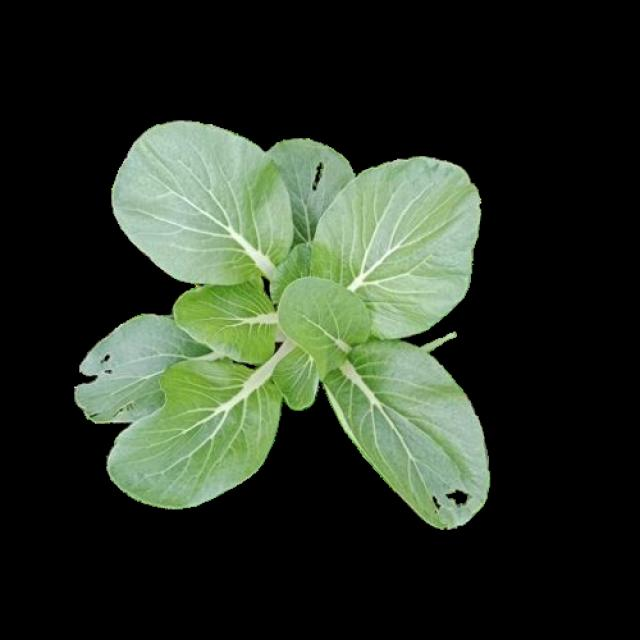mature: (78, 124, 486, 526)
unhealthy: (326, 346, 486, 524), (80, 316, 194, 421), (273, 141, 352, 238)
